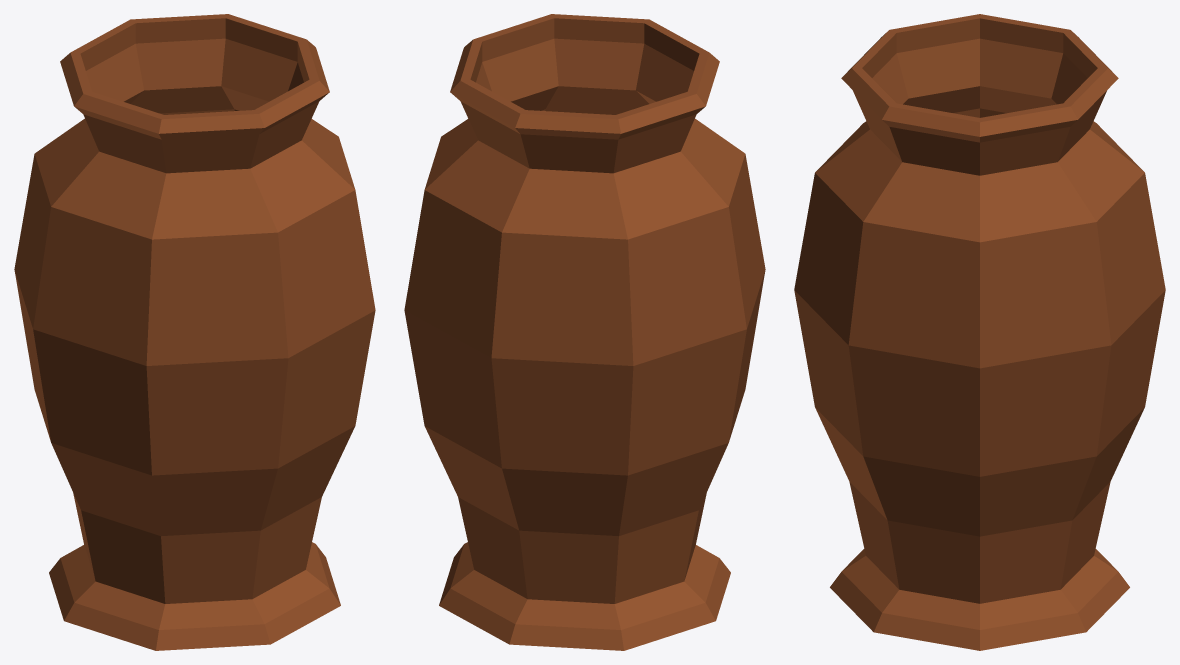
The model's file is Collin_Vase_001.fbx.
The picture shows the model from 3 angles, left to right: view 1: azimuth 30°, elevation 25°; view 2: azimuth 150°, elevation 25°; view 3: azimuth 270°, elevation 25°; orthographic projection.
Parts seen in each view (by area): view 1: Vase_005; view 2: Vase_005; view 3: Vase_005.
Part boxes in pixels (bbox=[...]): Vase_005: bbox=[14, 14, 375, 650]; Vase_005: bbox=[404, 14, 765, 650]; Vase_005: bbox=[794, 14, 1165, 650].
Bounding box in the file's own units: 53.2 × 82.04 × 53.2.
1 material, 1 textured.
